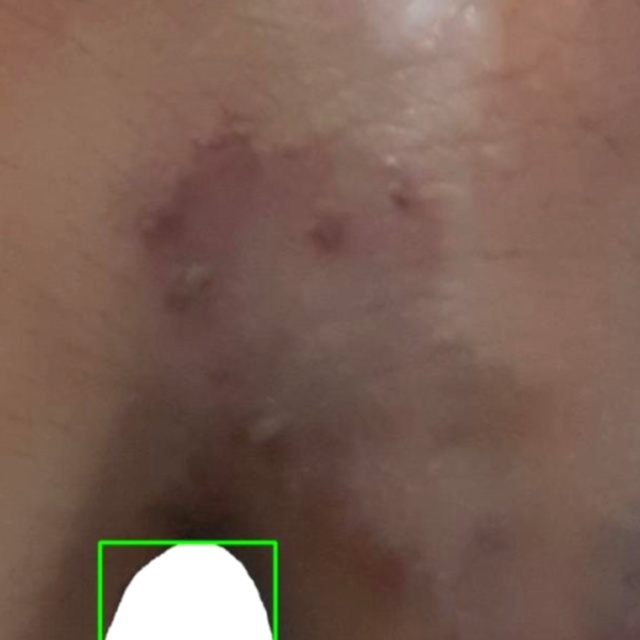Contact Dermatitis: (100, 542, 275, 639)
